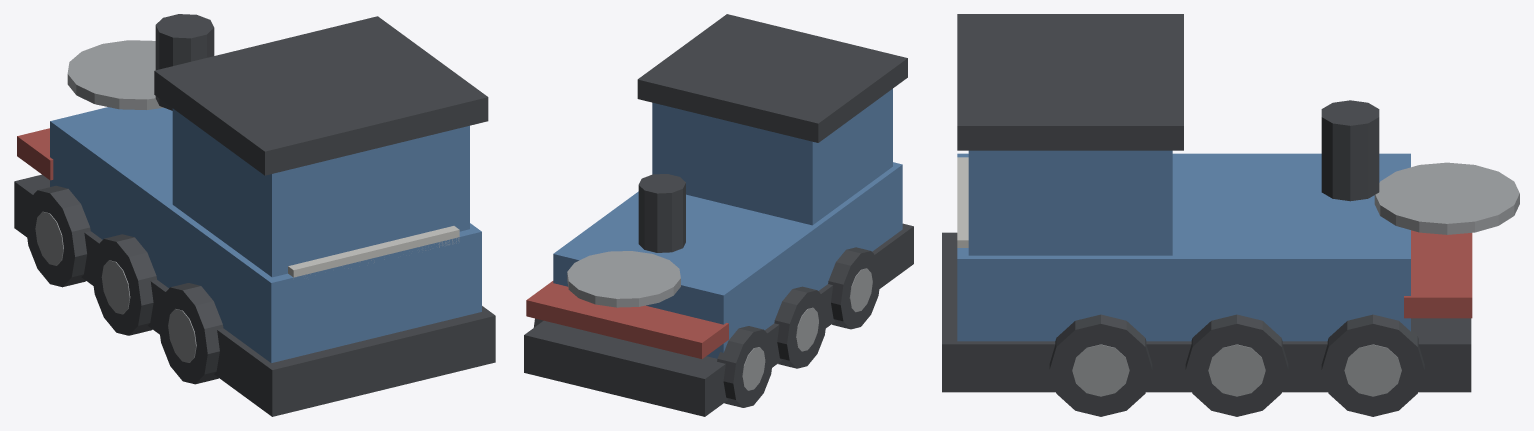
Rendered from diesel-thomas-proxy-game.glb.
3 renders of one model, left to right at view 1: azimuth 30°, elevation 25°; view 2: azimuth 150°, elevation 25°; view 3: azimuth 270°, elevation 25°, orthographic. The views are drawn at different scales.
Visible parts, largest first — view 1: world; view 2: world; view 3: world.
Part boxes in pixels (left/top/right/bottom): world: left=14, top=14, right=495, bottom=416; world: left=524, top=14, right=913, bottom=416; world: left=942, top=14, right=1519, bottom=416.
Size of the model in its own units: 1.95 by 2.08 by 3.82.
